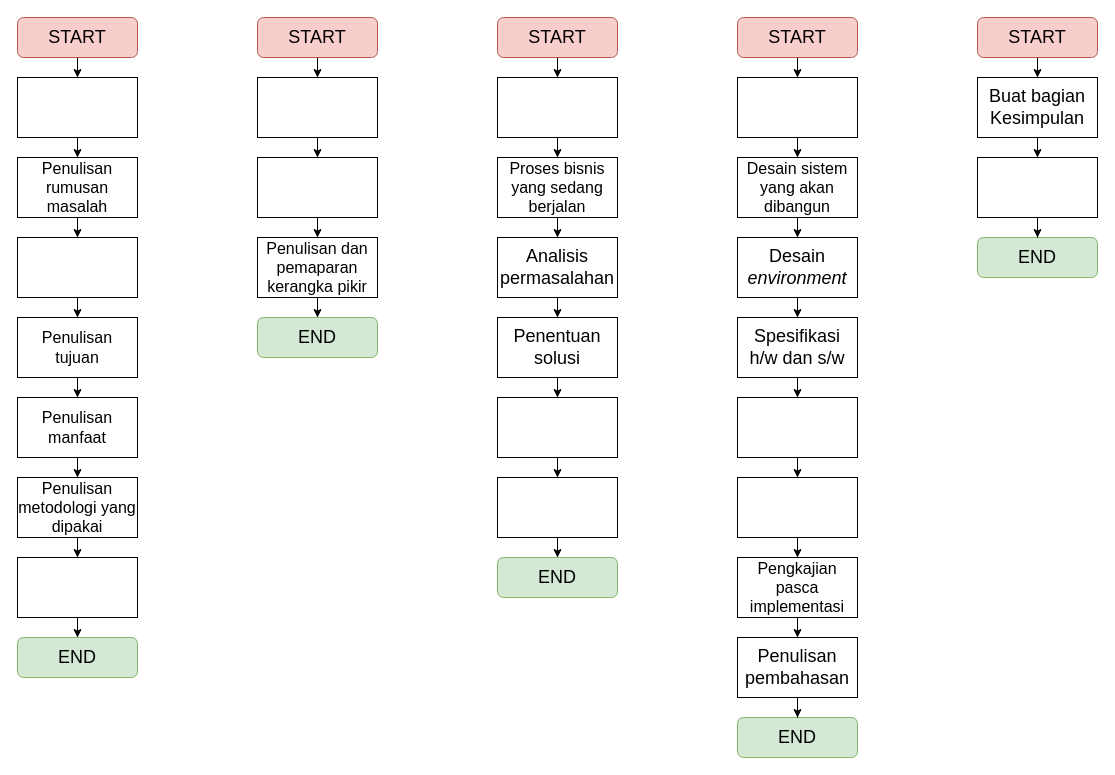
Some shapes in this 1115 by 775 pixel diagram are drawn without their labels. Each missing label, with the centre of its shape:
Analisa sistem yang akan dibangun: point (797, 107)
Buat bagian Saran: point (1037, 187)
Deployment: point (797, 507)
Gambaran kondisi obyek penelitian: point (557, 107)
Kajian pustaka: point (317, 187)
Pembuatan jadwal proyek penelitian: point (557, 507)
Penentuan dan penulisan landasan teori: point (317, 107)
Pengujian: point (797, 427)
Penulisan latar belakang: point (77, 107)
Penulisan ruang lingkup: point (77, 267)
Penulisan sistematika: point (77, 587)
Perencanaan proyek penelitian: point (557, 427)
